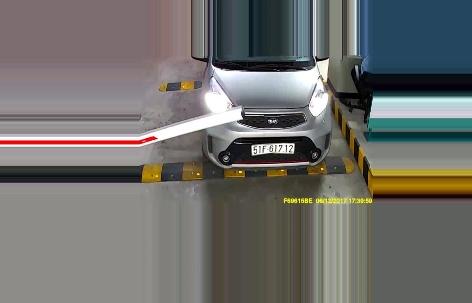plate: (249, 139, 296, 158)
